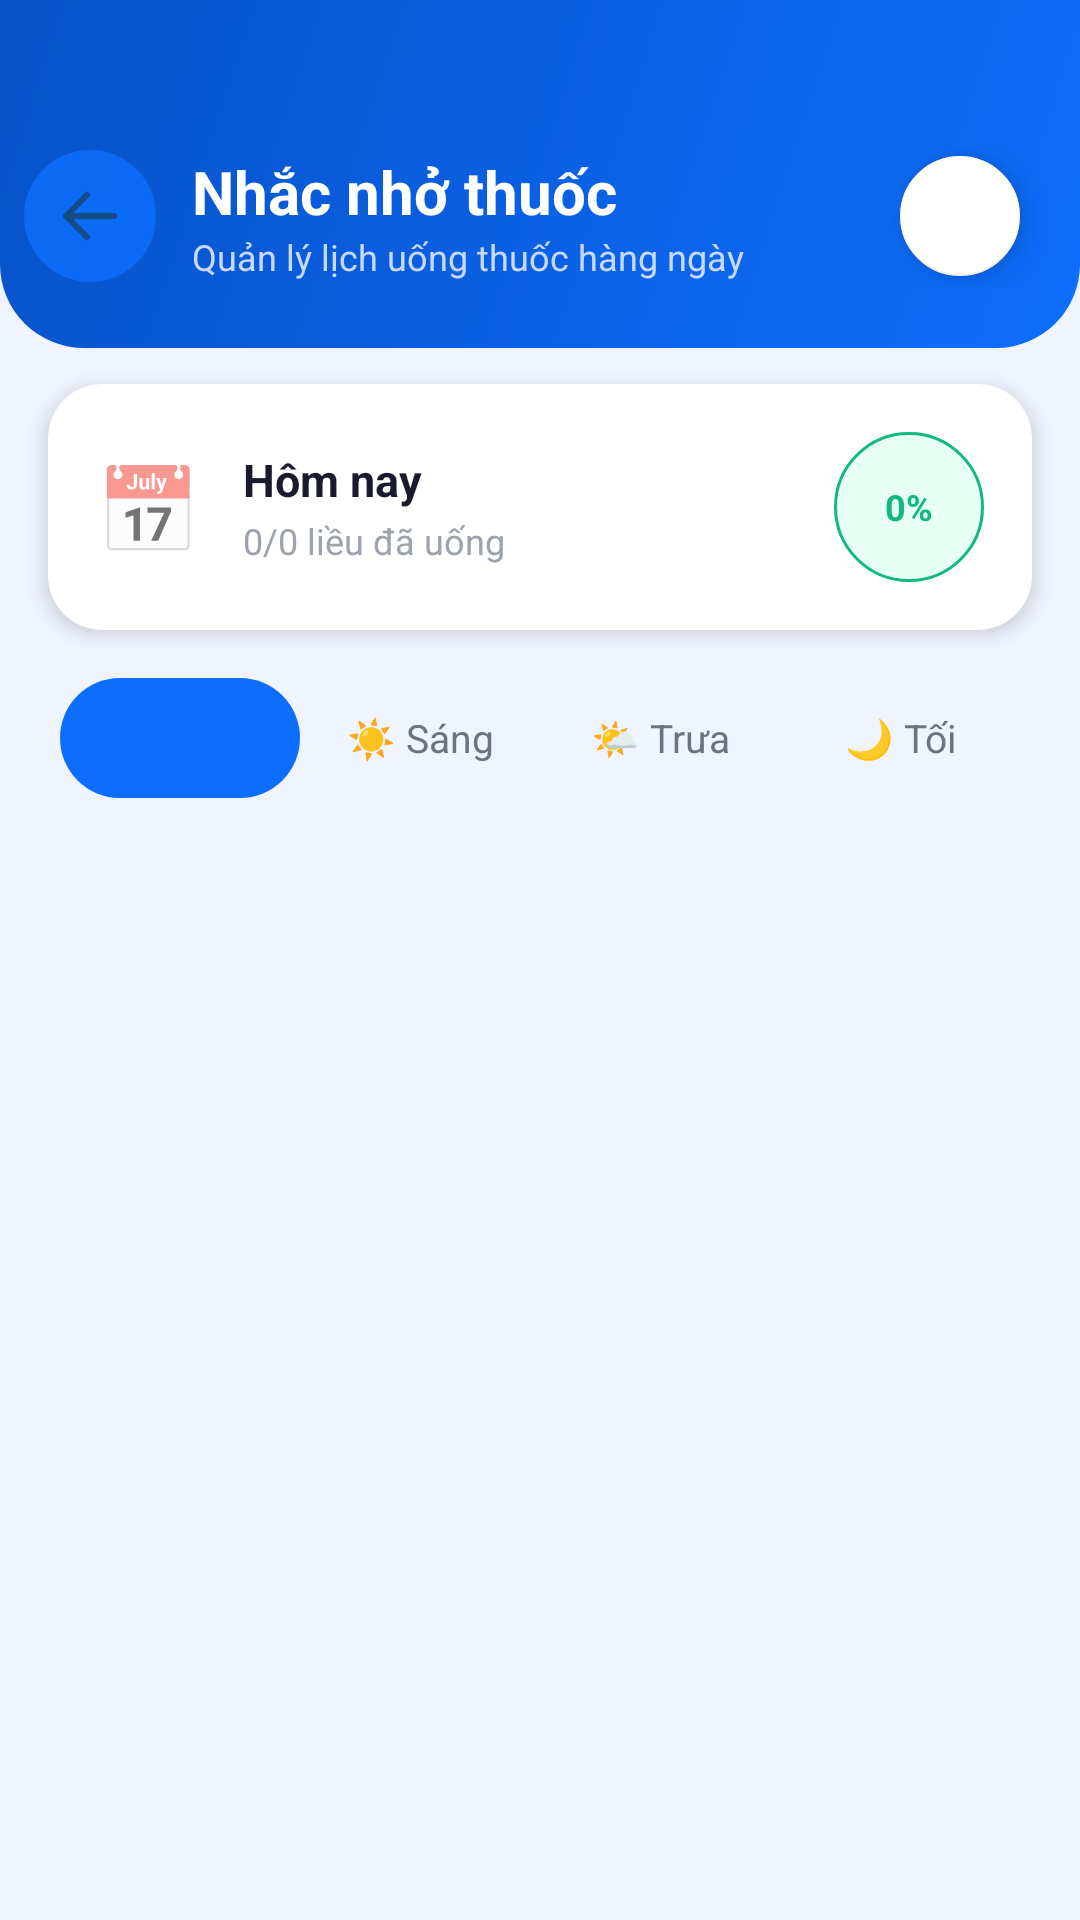

Icon click points for this 1080 x 1920 phone screenshot, format [x,y]:
Quay lại: [90,216]
